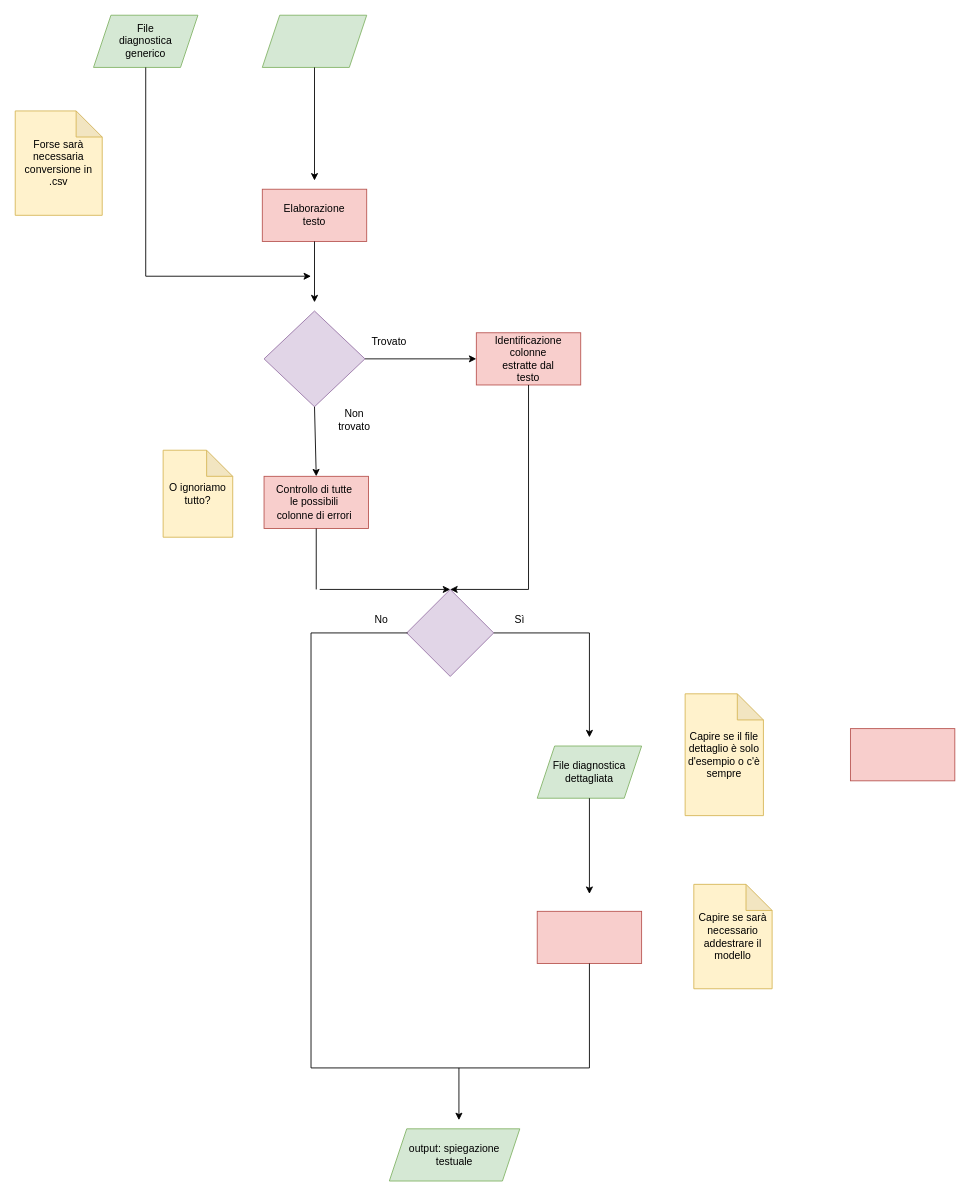
Image size: 970x1196. Some labels were removed from this diagram. Here are the shapes that lost their labels. From the top down, the centre of each, then its label:
At (314,40): "Input testuale".
At (314,358): "Matching tra testo e colonna di errore".
At (450,632): "C'è un errore?".
At (902,754): "Isolamento delle righe che iniziano con il nome della colonna selezionato".
At (589,937): "Elaborazione delle righe critiche in linguaggio naturale".
